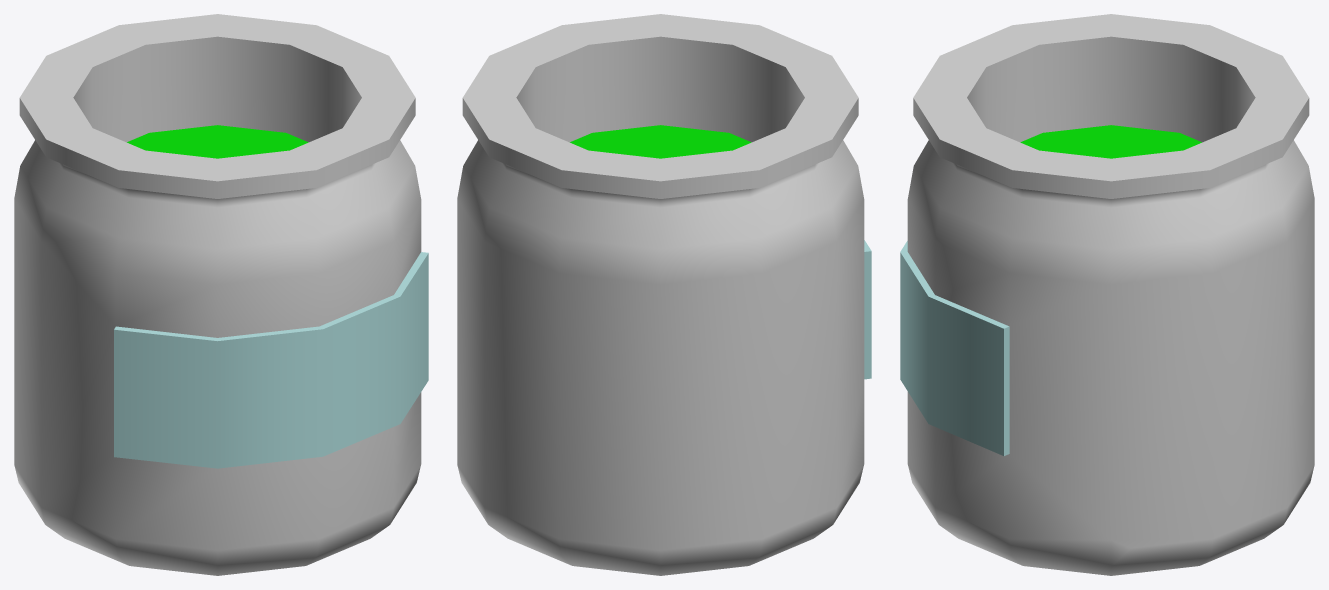
Rendered from ingredientjar.fbx.
The picture shows the model from 3 angles, left to right: view 1: azimuth 30°, elevation 25°; view 2: azimuth 150°, elevation 25°; view 3: azimuth 270°, elevation 25°; orthographic projection.
Parts seen in each view (by area): view 1: jar_low, sign_low, substance_low; view 2: jar_low, substance_low, sign_low; view 3: jar_low, sign_low, substance_low.
Boxes of the visible parts, box(x1,y1,x2,y2) form: jar_low: box(14, 14, 421, 575); sign_low: box(114, 252, 428, 468); substance_low: box(127, 125, 308, 158); jar_low: box(457, 14, 864, 575); substance_low: box(570, 125, 751, 158); sign_low: box(864, 240, 871, 379); jar_low: box(907, 14, 1314, 575); sign_low: box(900, 241, 1009, 455); substance_low: box(1020, 125, 1201, 158).
Bounding box in the file's own units: 0.5634 × 0.6166 × 0.5739.
